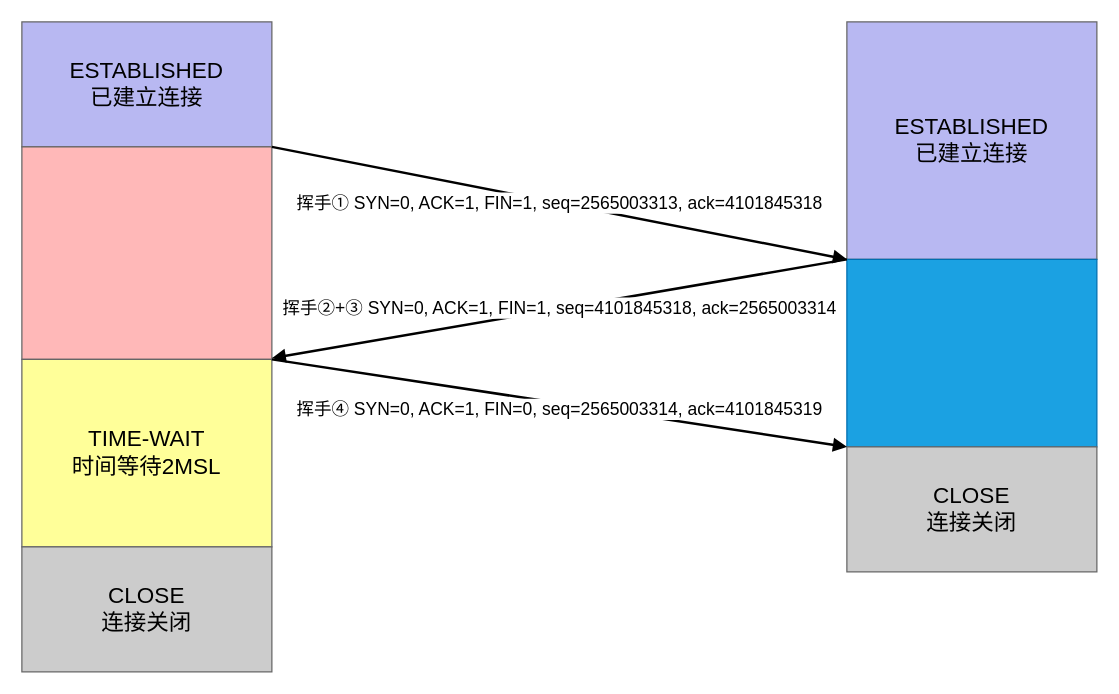
Image size: 1119x694. Some labels were removed from this diagram. Each missing label, with the centre of its shape:
"FIN-WAIT 终止等待" goes at pixel 146 252.
"WAIT-ACK 等待确认" goes at pixel 971 352.
